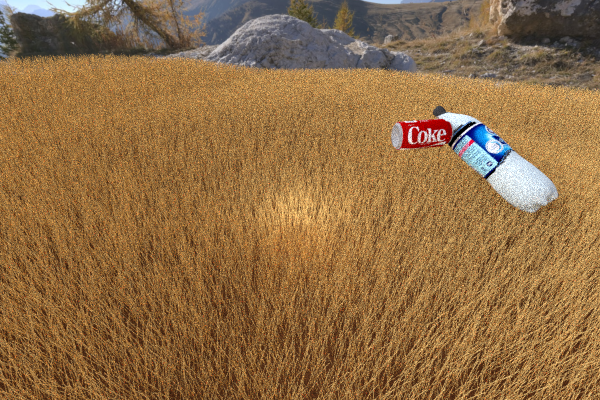bottle: (431, 104, 556, 211)
can: (107, 89, 153, 122), (0, 100, 30, 133)
